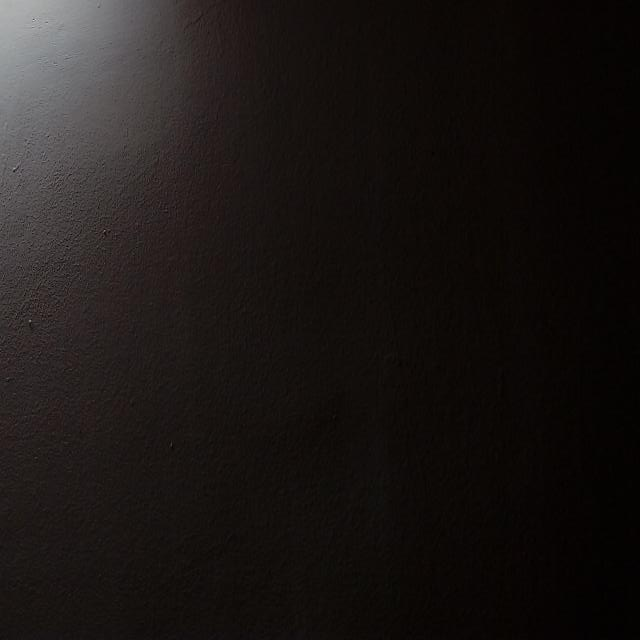fluorescent tube: (0, 0, 159, 115)
